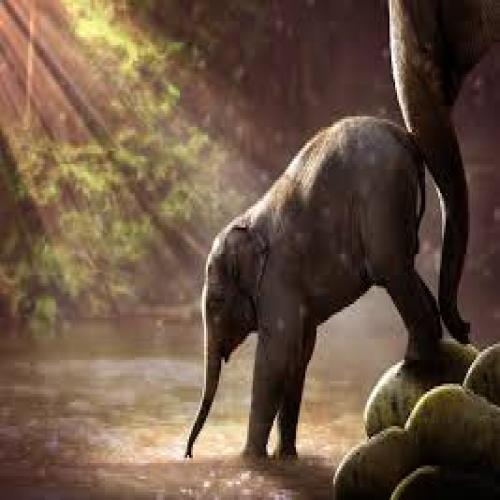asian_elephant-endangered: (182, 116, 438, 463), (386, 0, 500, 344)
